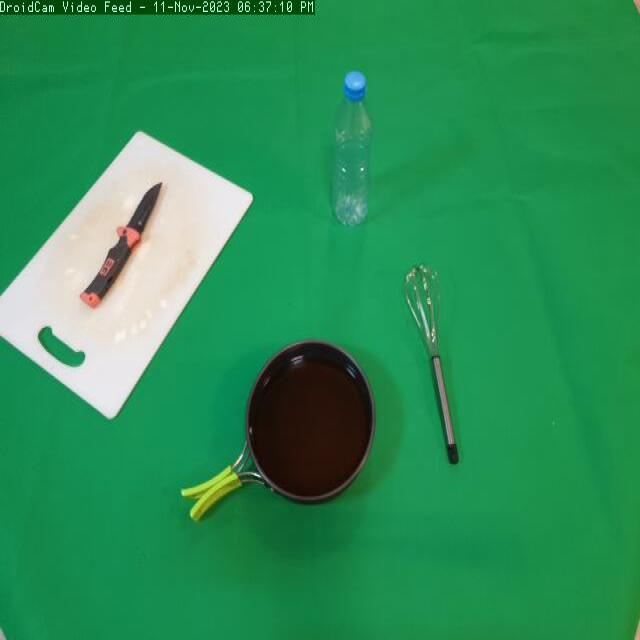bottle: (322, 58, 384, 244)
cutting board: (1, 130, 260, 432)
fullpan: (174, 333, 382, 535)
knife: (81, 177, 174, 319)
whisk: (396, 262, 475, 477)
